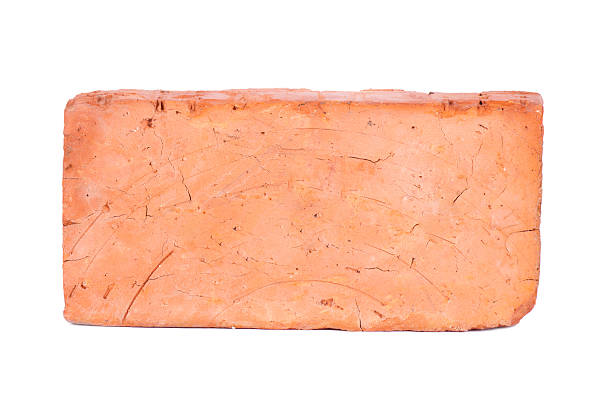brick: (67, 100, 535, 326)
